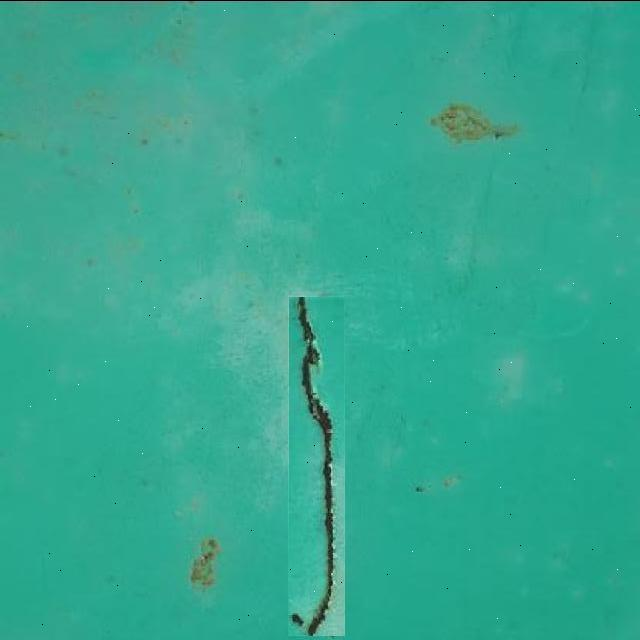crack: (168, 8, 384, 230), (393, 185, 635, 366), (1, 7, 252, 178), (475, 289, 640, 528), (256, 40, 317, 639), (384, 494, 628, 638), (408, 6, 617, 163), (0, 319, 145, 536), (1, 148, 158, 292), (290, 295, 336, 635), (524, 97, 586, 331), (276, 259, 479, 329), (207, 288, 288, 434), (244, 5, 382, 88), (0, 63, 119, 153), (299, 73, 323, 363), (174, 265, 255, 327), (41, 148, 125, 203), (470, 155, 499, 291), (259, 398, 294, 490), (370, 322, 439, 358), (441, 224, 486, 277)
dampens: (275, 285, 448, 640), (498, 5, 534, 80), (576, 18, 598, 105)
dampness: (430, 101, 516, 144), (190, 535, 222, 591)
